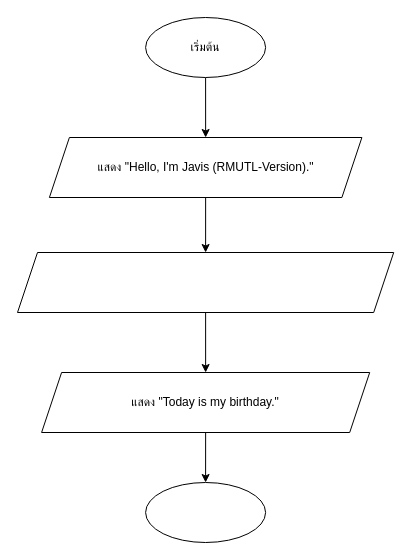
Some shapes in this 412 by 560 pixel diagram are drawn without their labels. Here are the shapes that lost their labels. From the top down, the centre of each, then its label:
[205,282]: แสดง "This is my first time to coding with C language."
[205,512]: สิ้นสุด
